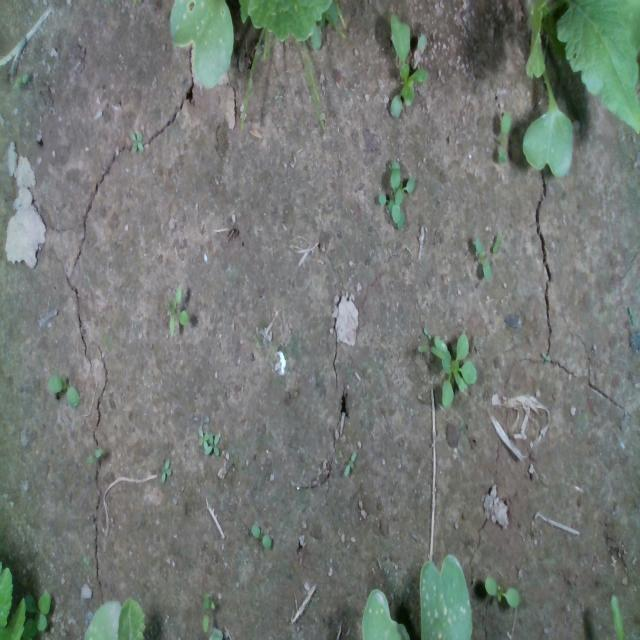weed: (163, 279, 190, 339), (46, 370, 80, 405), (484, 575, 520, 608), (495, 109, 511, 167), (474, 235, 491, 280), (250, 522, 272, 548), (85, 444, 104, 466), (128, 128, 144, 152), (201, 589, 209, 633), (159, 457, 172, 483), (344, 449, 356, 476)
